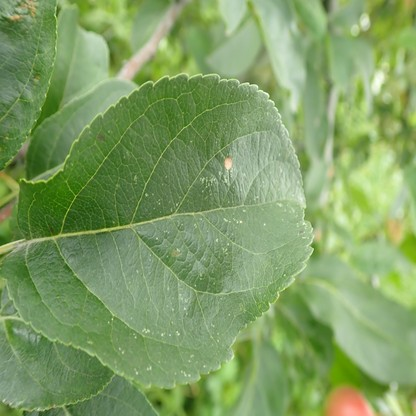frogeye: (223, 156, 233, 170)
